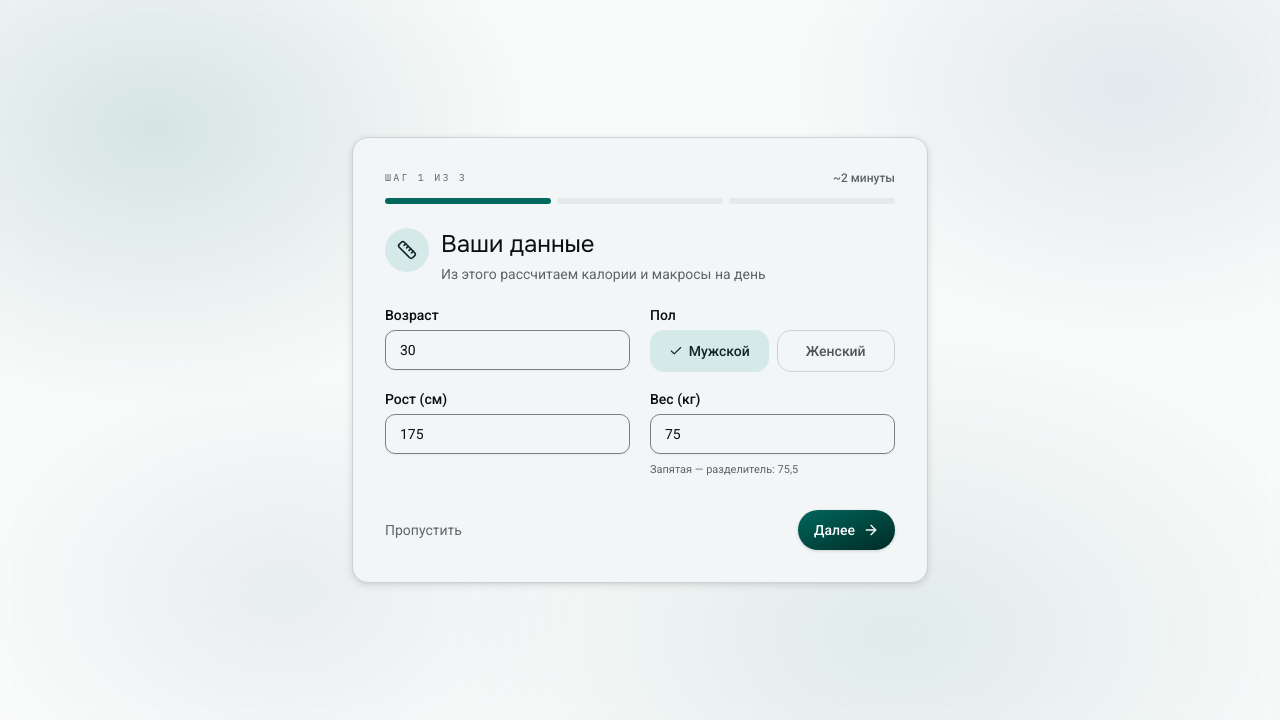
Scenario: OnboardingWizard › показывает 3 шага по порядку: антропометрия → цель → инвентарь
Expected: the heading "Ваши данные" is shown, [441,229,595,259]
Expected: the text "Шаг 1 из 3" is shown, [385,170,467,185]
Type "32" into the field labelled "Возраст".
click(508, 350); type("32")  # box [385,330,630,370]
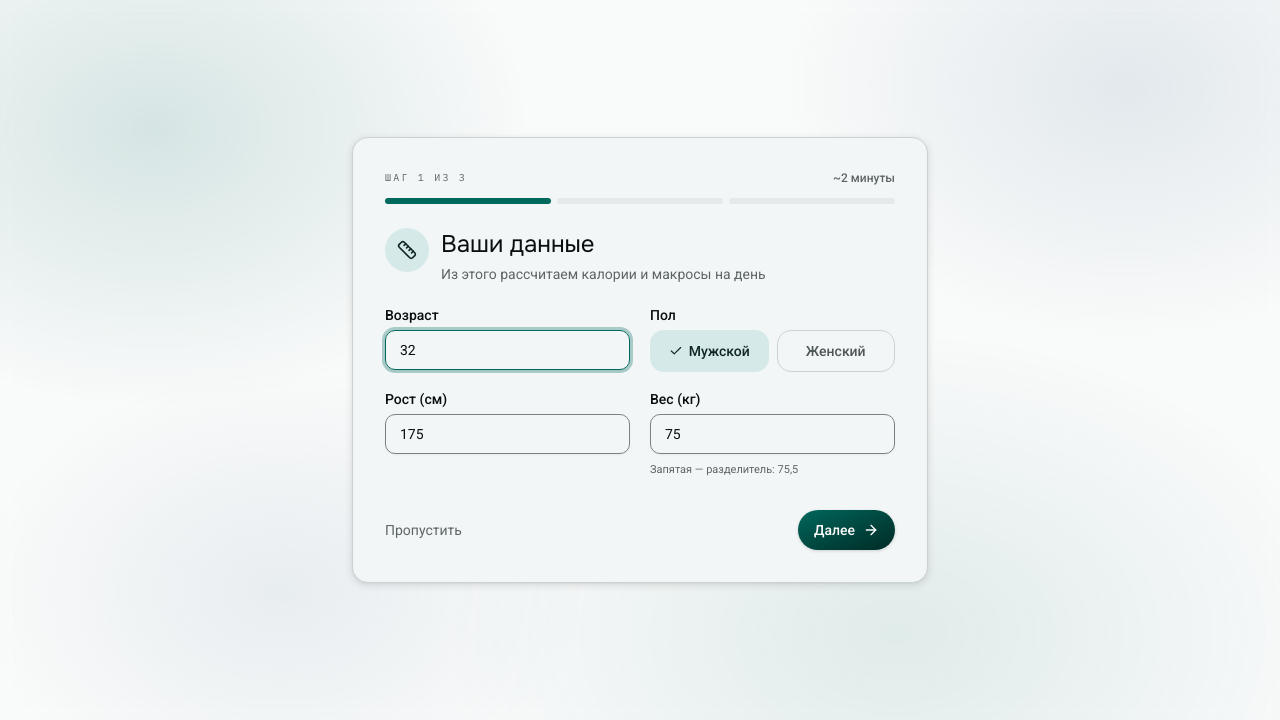
Type "180" into the field labelled "Рост (см)".
click(508, 434); type("180")  # box [385,414,630,454]
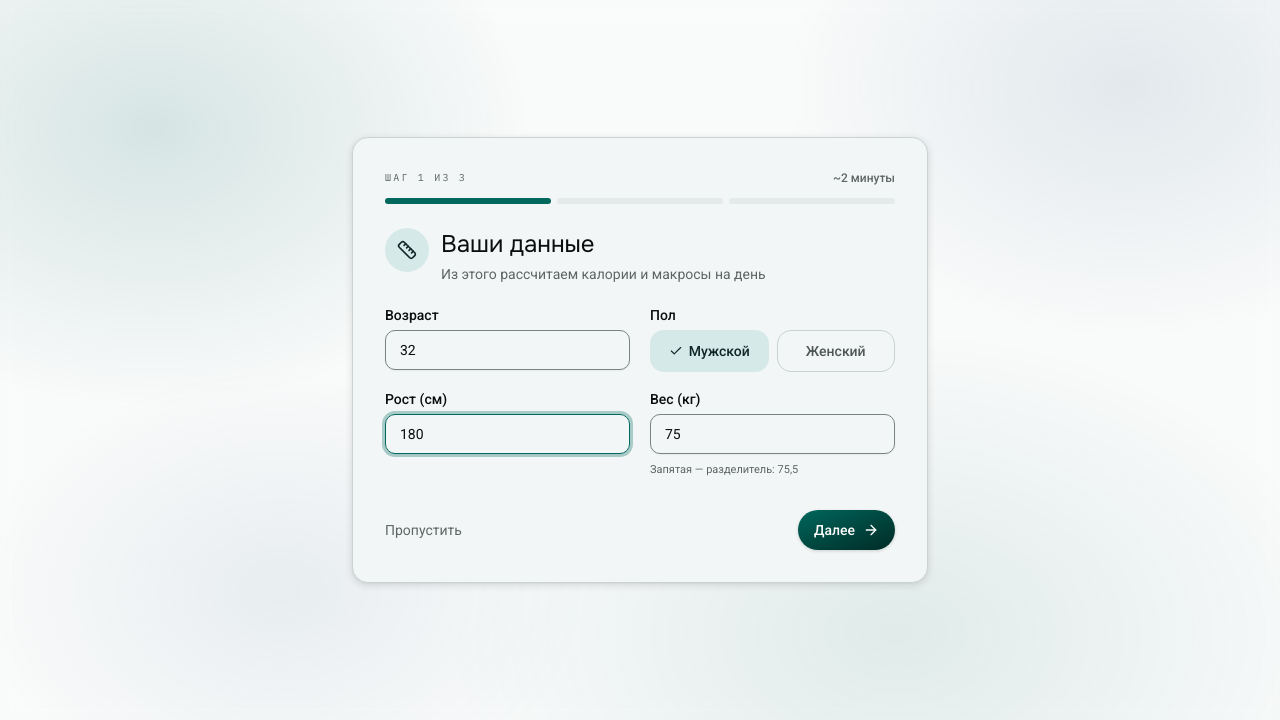
Type "85" into the field labelled "Вес (кг)".
click(772, 434); type("85")  # box [650,414,895,454]
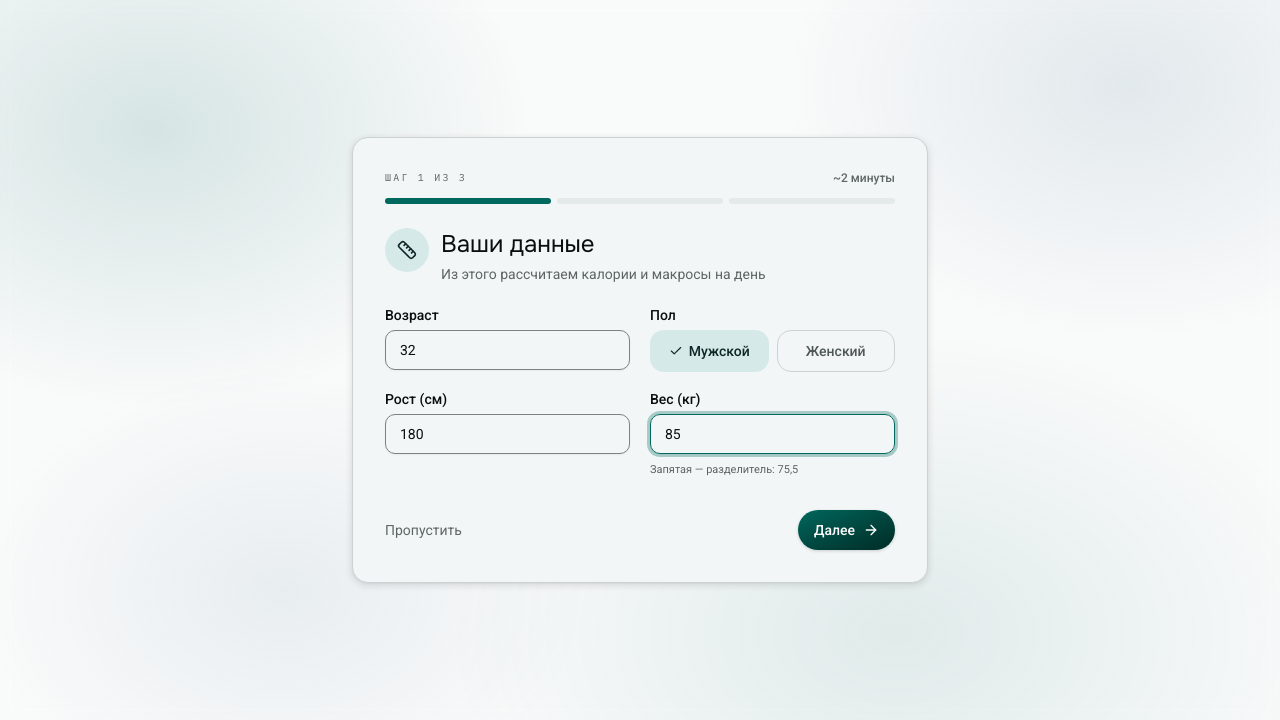
Click the button "Далее".
click(846, 530)  # box [798,510,895,550]
(page scrolled)
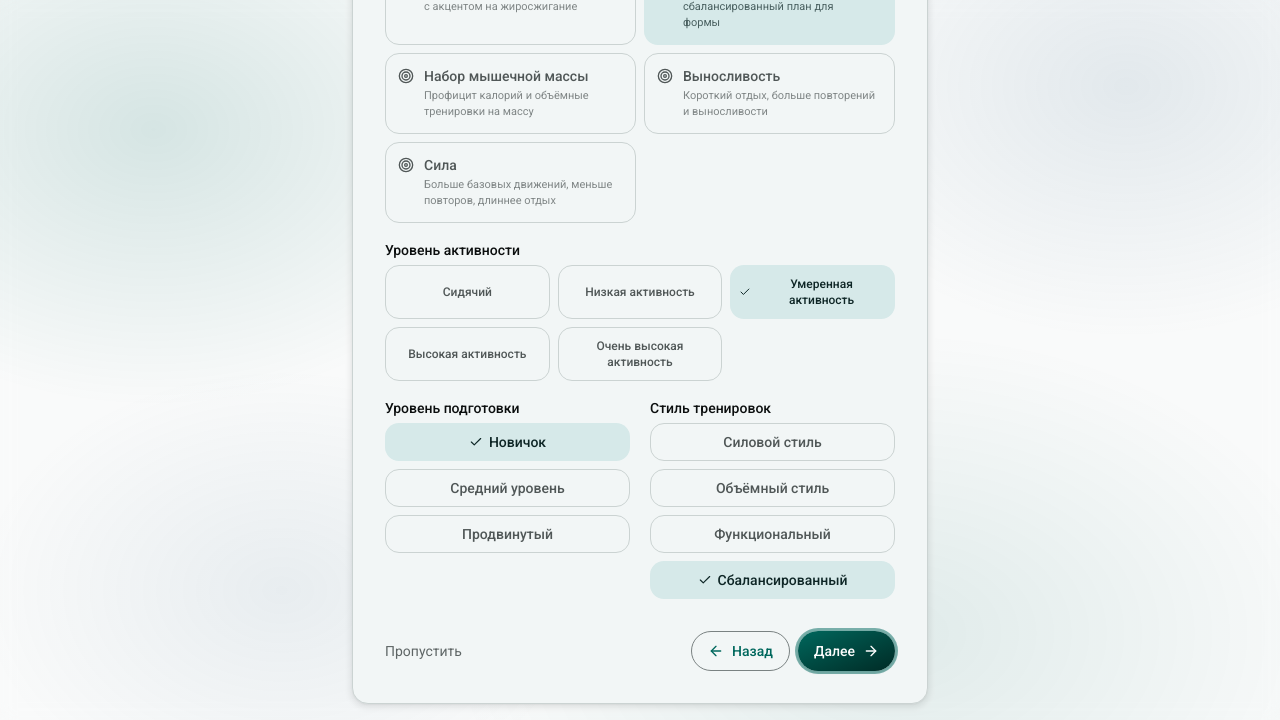
Click the button "Далее".
click(846, 651)  # box [798,631,895,671]
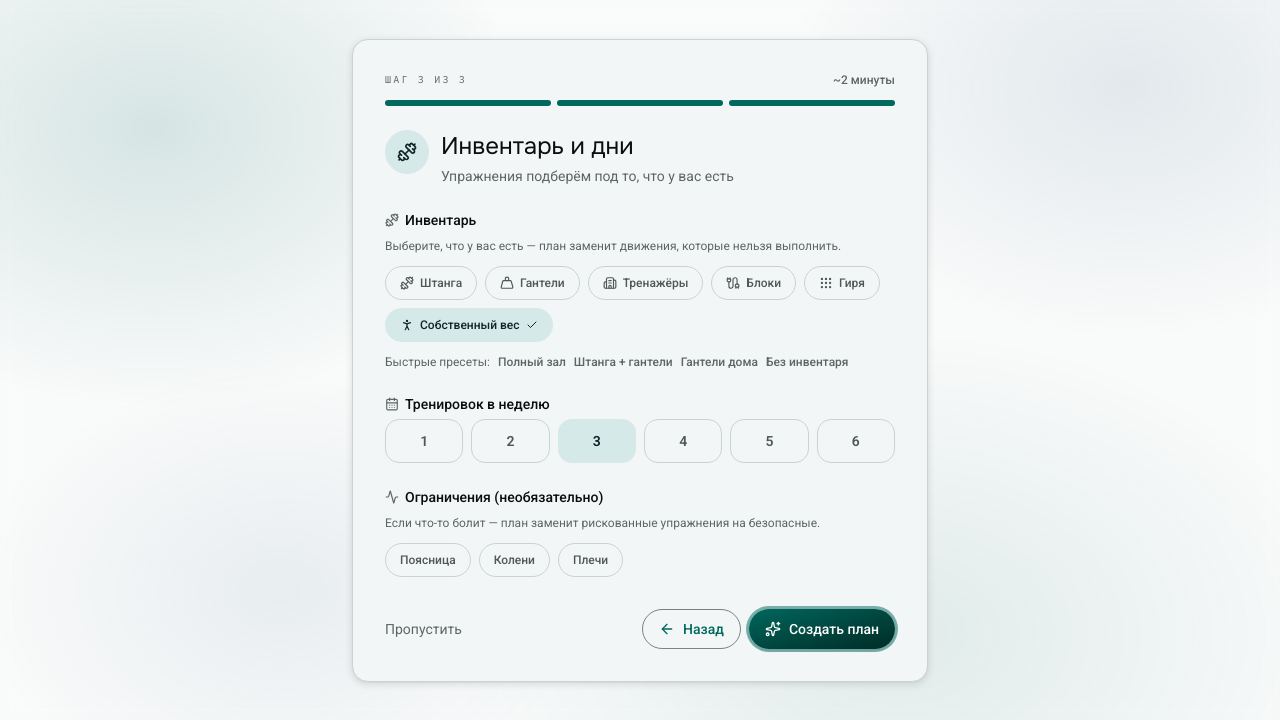
Expected: the heading "Инвентарь и дни" is shown, [441,130,634,160]
